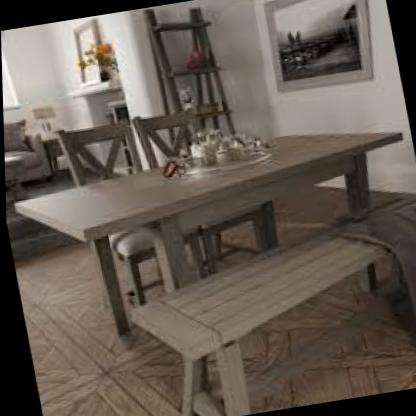Dining Table: (2, 82, 416, 416)
